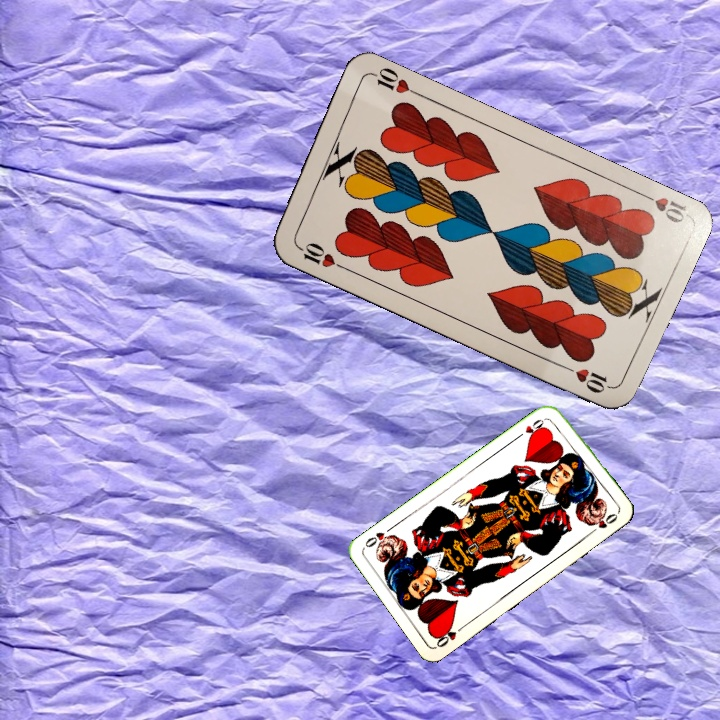H10: (634, 186, 691, 227), (291, 238, 347, 272)
HO: (431, 621, 468, 650), (514, 413, 551, 441)
